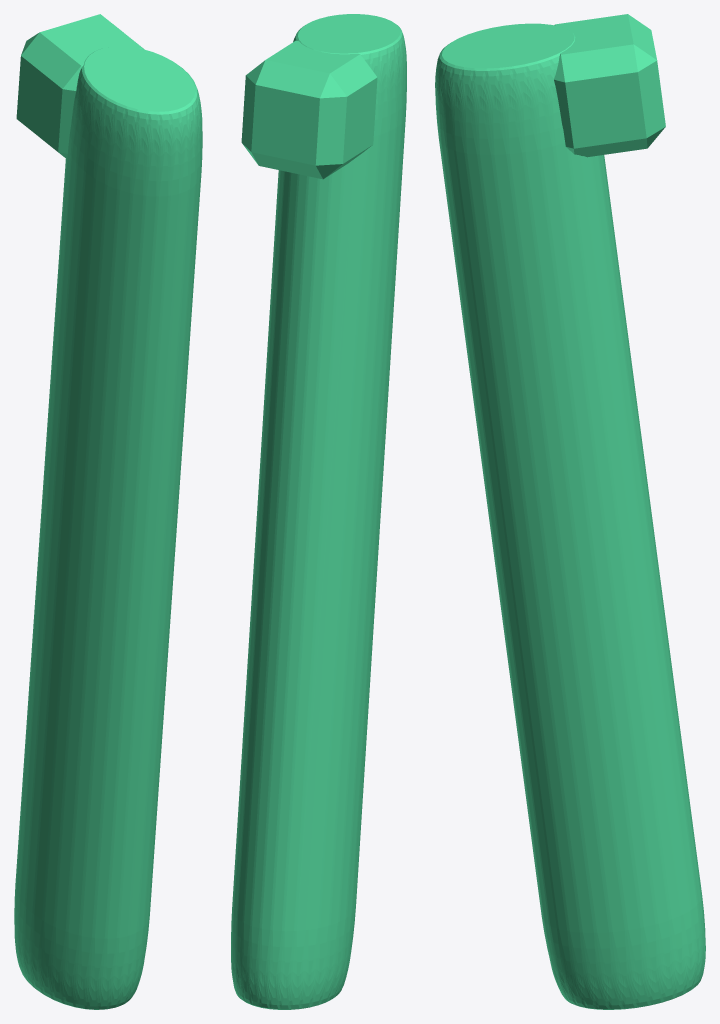
The model's file is ankle_left.dae.
The picture shows the model from 3 angles, left to right: view 1: azimuth 30°, elevation 25°; view 2: azimuth 150°, elevation 25°; view 3: azimuth 270°, elevation 25°; orthographic projection. The views are drawn at different scales.
Visible parts, largest first — view 1: left_ankle; view 2: left_ankle; view 3: left_ankle.
Part boxes in pixels (x1=…): left_ankle: x1=14, y1=14, x2=202, y2=1009; left_ankle: x1=231, y1=14, x2=406, y2=1009; left_ankle: x1=435, y1=14, x2=705, y2=1009.
Bounding box in the file's own units: 0.0292 × 0.0622 × 0.244.
